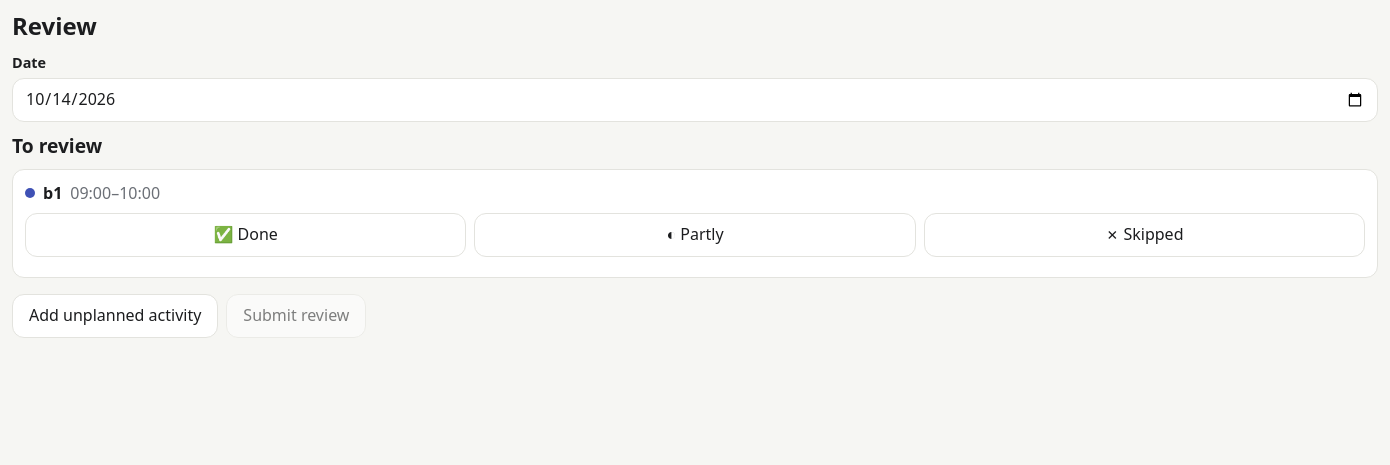
Test: ReviewPage › partial minutes > duration shows server field error inline
Click the button "◐ Partly" at (695, 235), box [474,213,916,257]
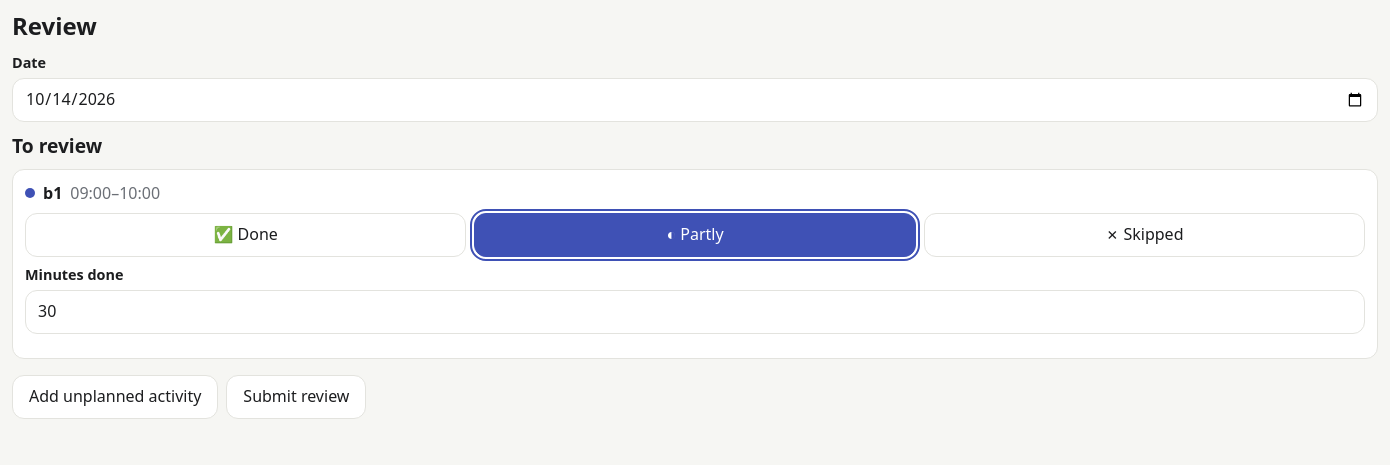
Replace the text in the number field labelled "Minutes done" with "90" at (695, 312), box [25,290,1365,334]
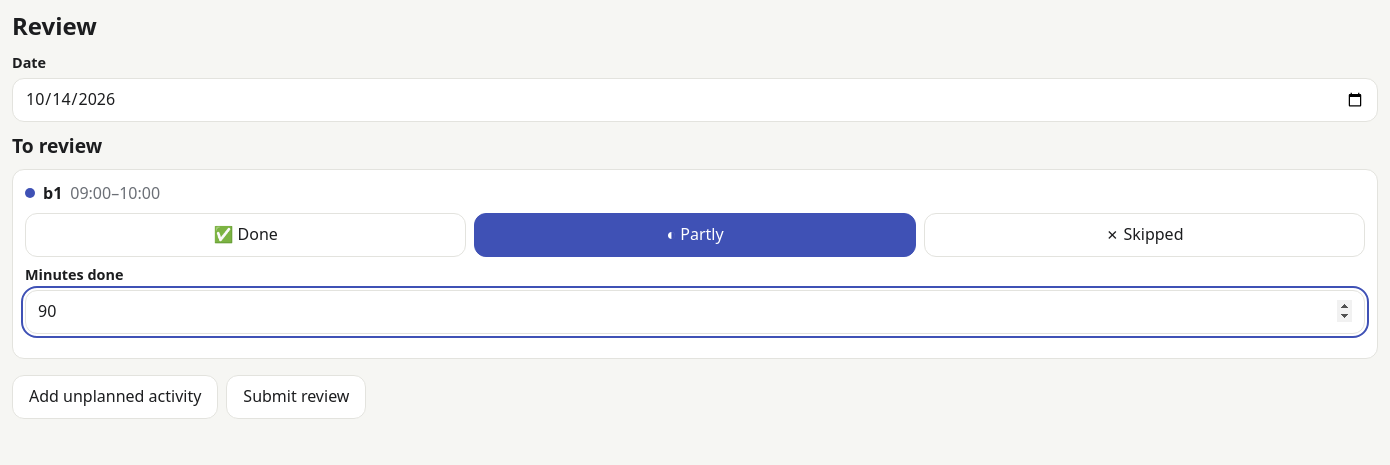
Click the button "Submit review" at (296, 397), box [226,375,366,419]
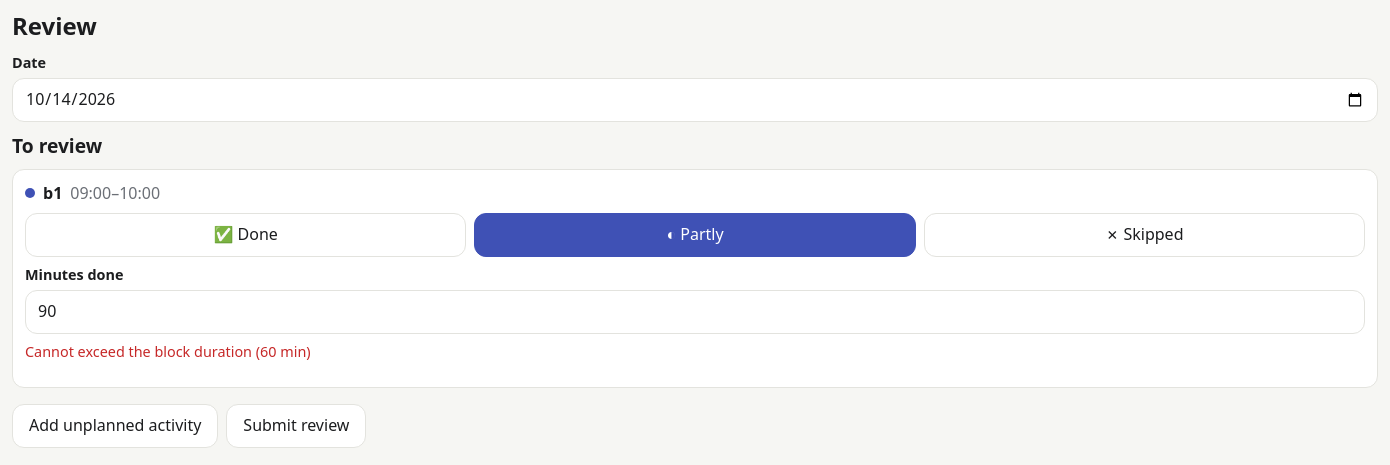
Expected: the text "Cannot exceed the block duration (60 min)" is shown, [25,342,311,361]
